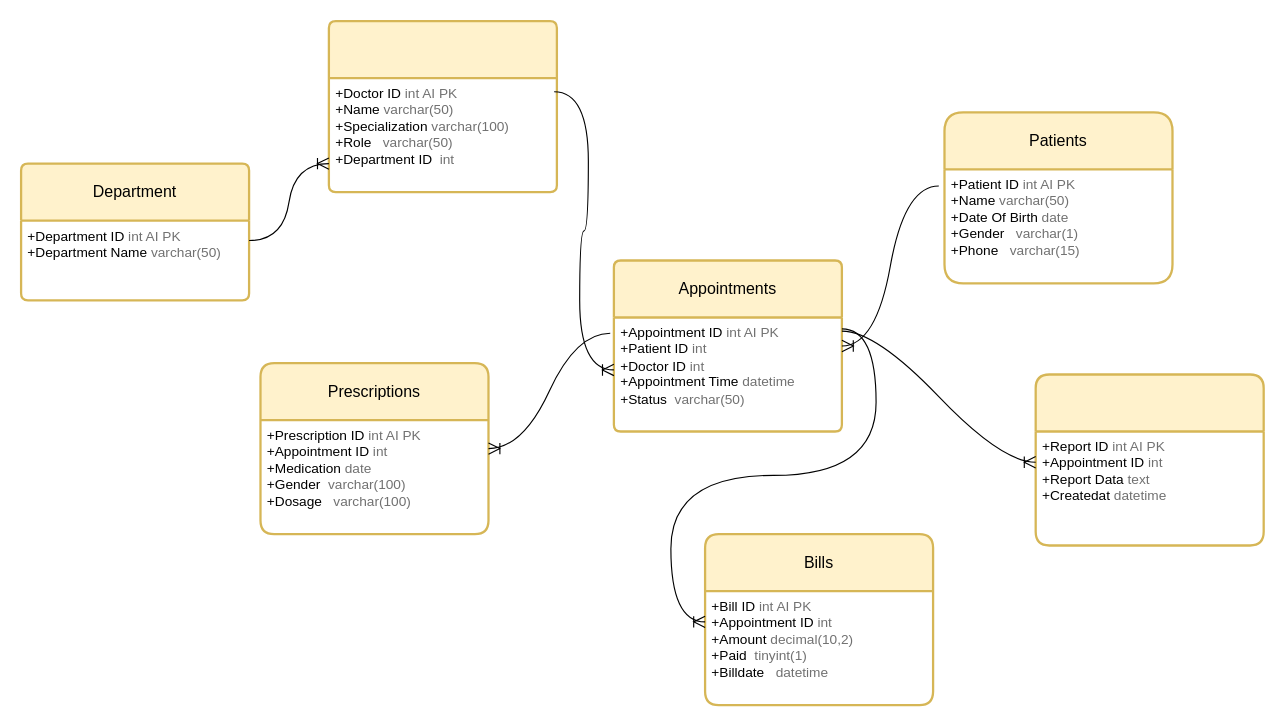
The diagram is 1284 pixels wide and 725 high, and some of its shapes have lost their labels. Here are the shapes that lost their labels. From the top down, the box of each, then its label:
(327, 19, 557, 193): Doctors
(1034, 373, 1264, 546): Lab Reports
